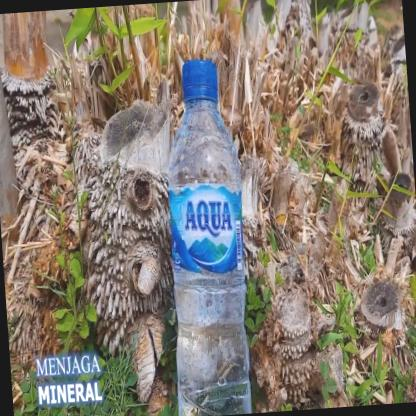plastic_bottles: (152, 53, 262, 416)
